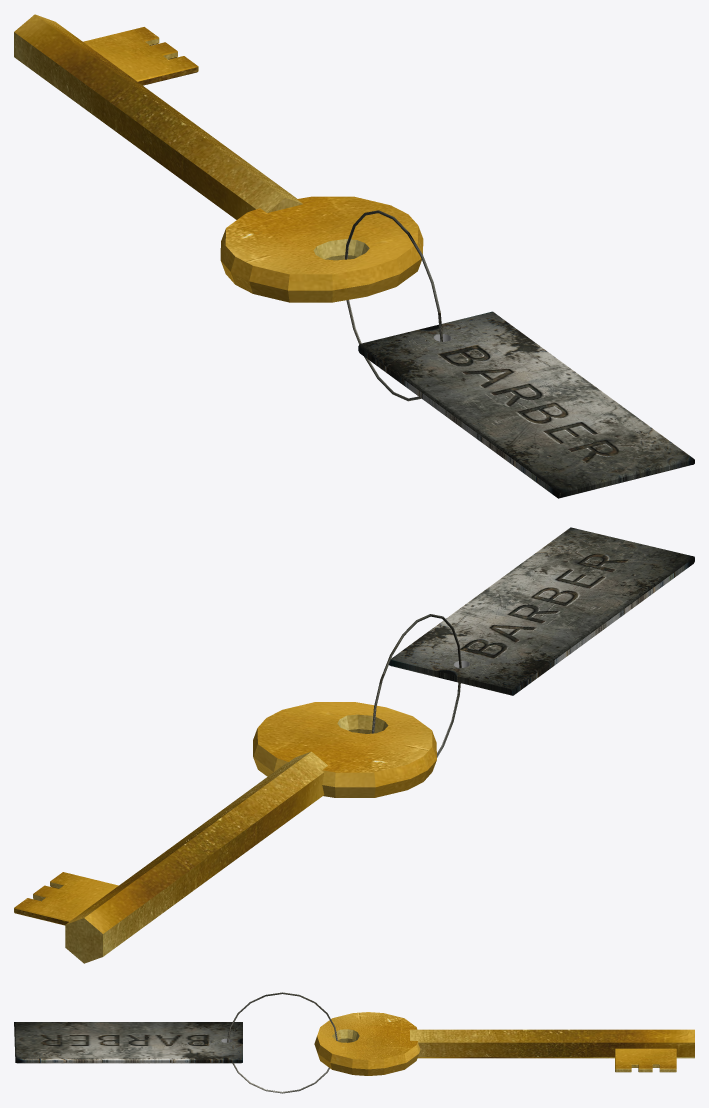
The model's file is Barber Key.fbx.
The picture shows the model from 3 angles, top to bottom: view 1: azimuth 30°, elevation 25°; view 2: azimuth 150°, elevation 25°; view 3: azimuth 270°, elevation 25°; orthographic projection. The views are drawn at different scales.
Parts seen in each view (by area): view 1: pCube3, polySurface2; view 2: pCube3, polySurface2; view 3: pCube3, polySurface2.
Boxes of the visible parts, x1,y1,x2,y2 form: pCube3: (14,14,442,401); polySurface2: (358,311,694,498); pCube3: (14,614,461,963); polySurface2: (389,527,694,695); pCube3: (227,992,694,1093); polySurface2: (14,1022,242,1063).
Bounding box in the file's own units: 34.16 × 31.29 × 191.
